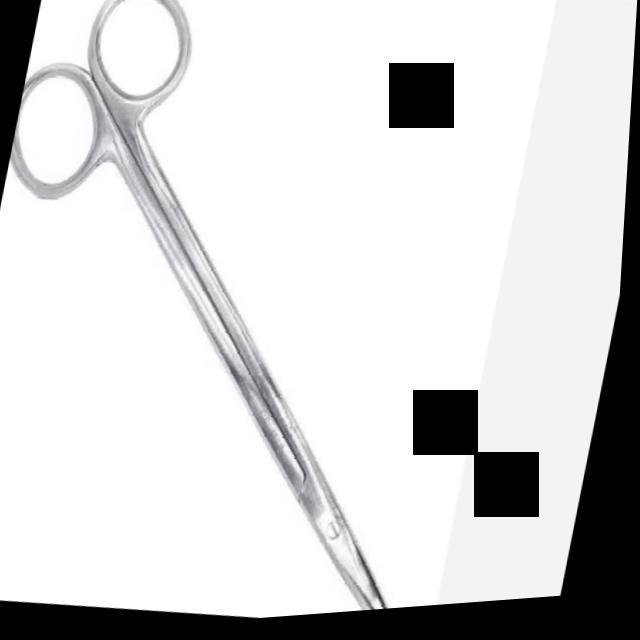Metzenbaum Sciccors: (0, 0, 549, 640)
